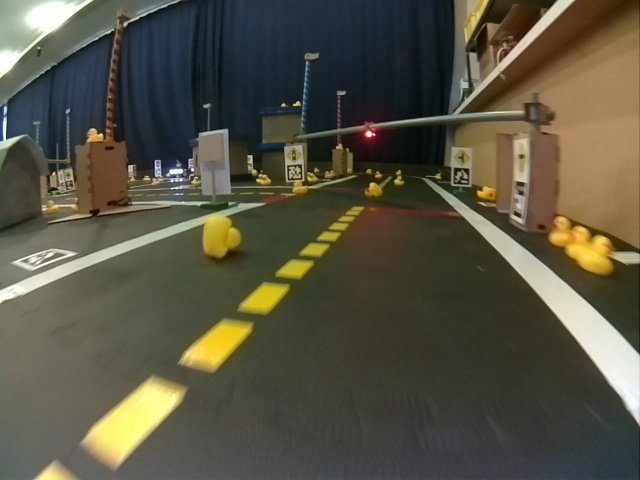Duckie: (205, 221, 240, 259), (584, 236, 613, 276), (566, 227, 590, 258), (550, 216, 571, 244), (84, 128, 104, 141), (364, 184, 382, 196), (293, 179, 306, 192), (394, 176, 404, 185)
Intersection sign: (454, 149, 471, 166)
QR code: (14, 248, 76, 271), (510, 180, 529, 221), (453, 167, 470, 185), (287, 165, 303, 178)
Signal sign: (286, 148, 300, 162)
Traffic light: (364, 126, 376, 139)
